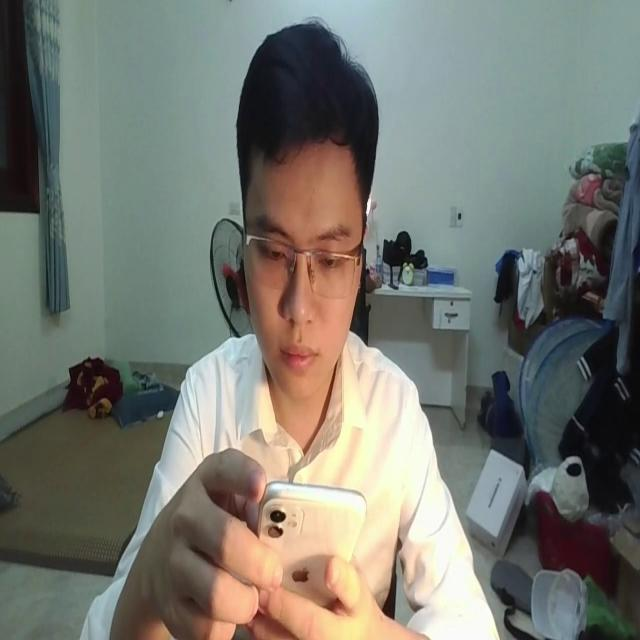phone: (253, 469, 361, 615)
student: (91, 15, 495, 640)
